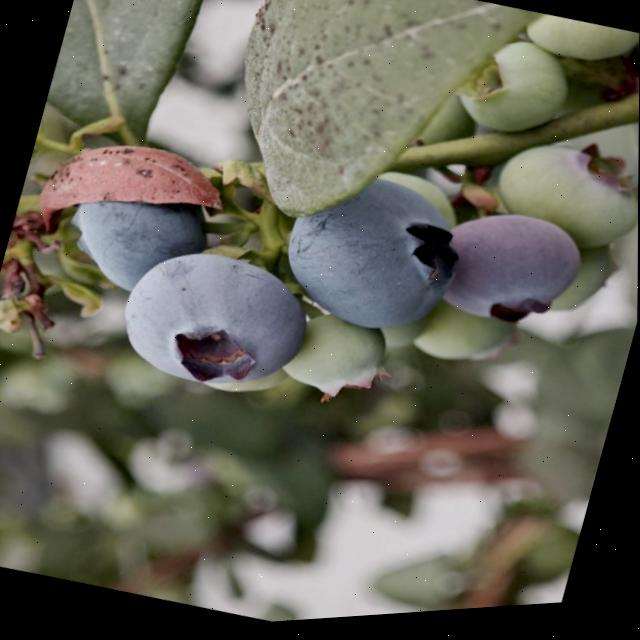RipeBlueBerry: (109, 231, 334, 427), (265, 161, 471, 371)
Semi-RipeBlueBerry: (436, 197, 597, 369)
